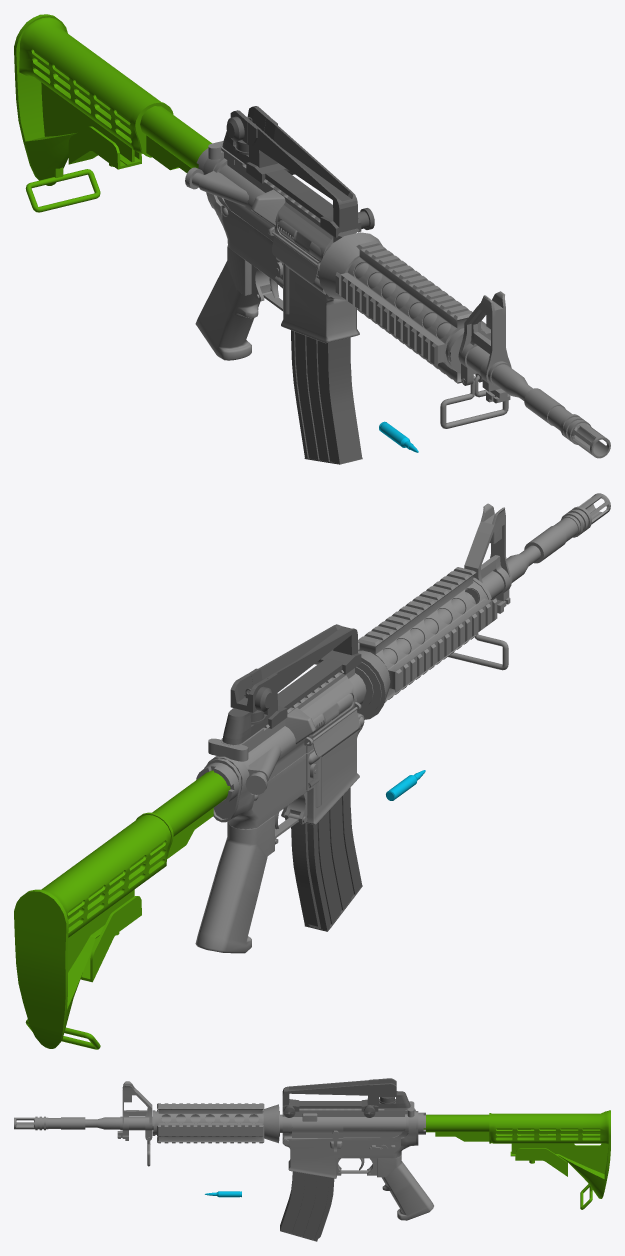
File: M4A1_Carbine.fbx
3 renders of one model, top to bottom at view 1: azimuth 30°, elevation 25°; view 2: azimuth 150°, elevation 25°; view 3: azimuth 270°, elevation 25°, orthographic. The views are drawn at different scales.
Parts seen in each view (by area): view 1: Body, Stock, Scope, Magazine; view 2: Body, Stock, Scope, Magazine; view 3: Body, Stock, Scope, Magazine.
Boxes of the visible parts, box(x1,y1,x2,y2) form: Body: box(185, 141, 610, 458); Stock: box(14, 14, 211, 212); Scope: box(222, 106, 374, 237); Magazine: box(291, 253, 362, 464); Body: box(195, 493, 610, 953); Stock: box(14, 770, 230, 1049); Scope: box(222, 624, 361, 744); Magazine: box(291, 787, 362, 931); Body: box(14, 1081, 433, 1220); Stock: box(423, 1110, 610, 1209); Scope: box(282, 1078, 410, 1117); Magazine: box(280, 1171, 334, 1241).
Size of the model in its own units: 8.29 by 31.61 by 108.
